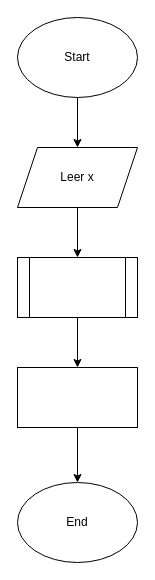
Image size: 155x580. Some labels were removed from this diagram. Each missing label, with the centre of its shape:
"return x" goes at point 77,397.
"x++" goes at point 77,287.
